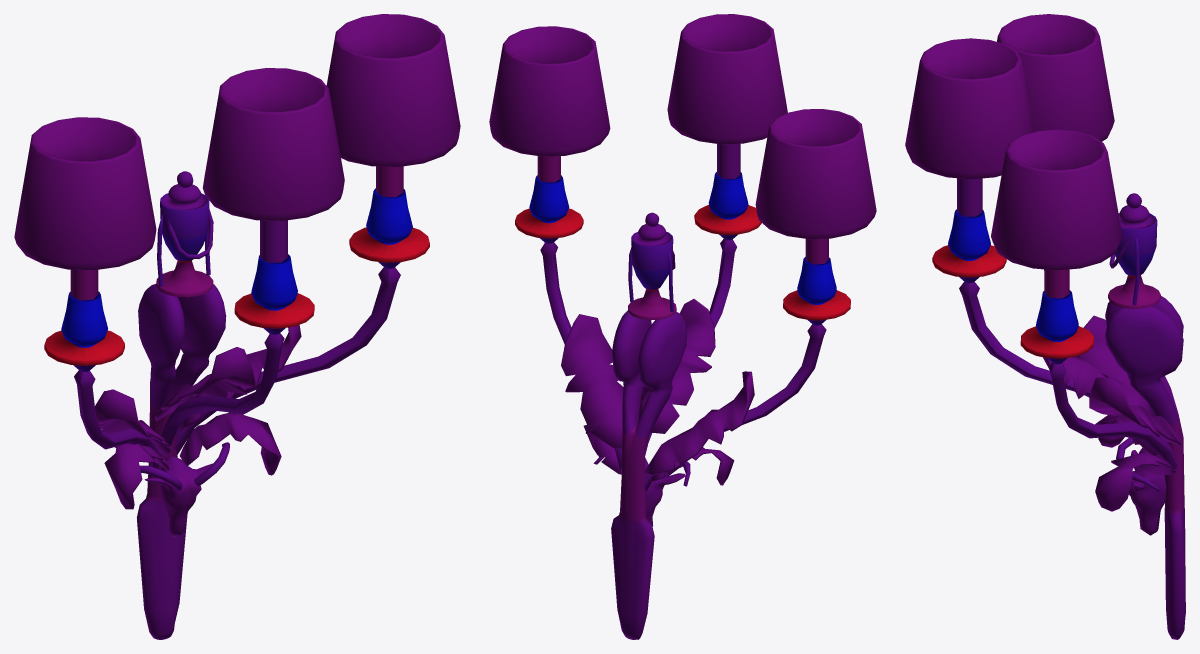
Rendered from Lamp_with_LODs.fbx.
3 renders of one model, left to right at view 1: azimuth 30°, elevation 25°; view 2: azimuth 150°, elevation 25°; view 3: azimuth 270°, elevation 25°, orthographic. The views are drawn at different scales.
Parts seen in each view (by area): view 1: Lamp_LOD0; view 2: Lamp_LOD0; view 3: Lamp_LOD0.
Boxes of the visible parts, x1=… form: Lamp_LOD0: x1=14, y1=14, x2=460, y2=639; Lamp_LOD0: x1=489, y1=14, x2=876, y2=639; Lamp_LOD0: x1=905, y1=14, x2=1185, y2=639.
Size of what is drawn, in the model's own units: 47.47 by 65.98 by 29.04.
